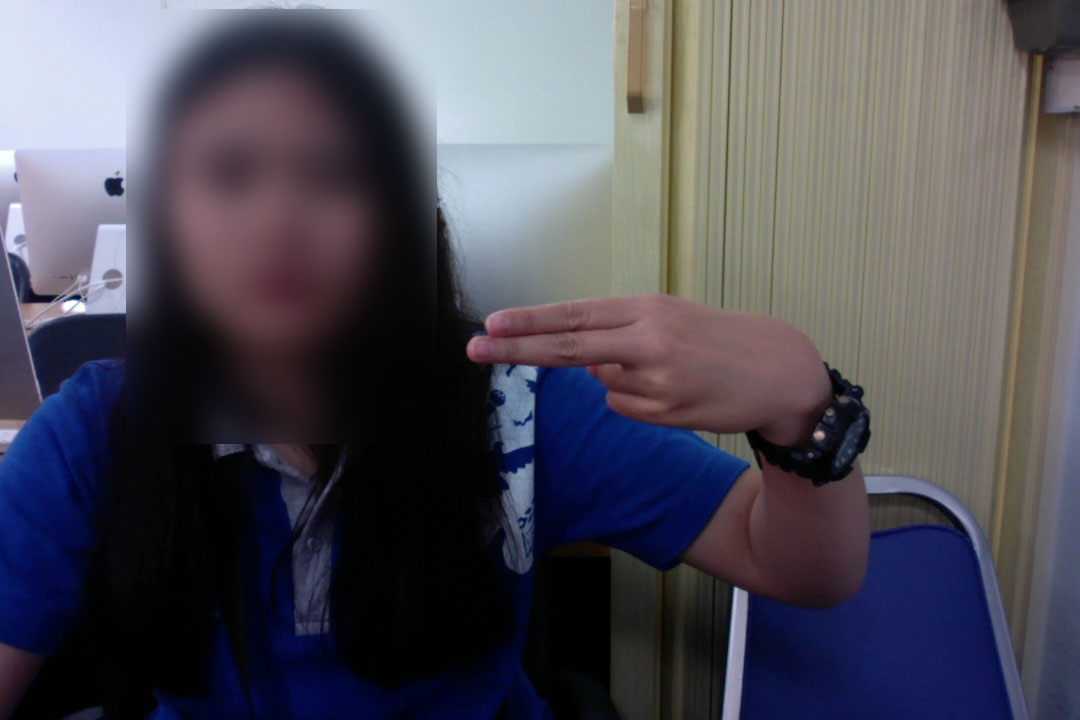hor: (455, 288, 851, 438)
